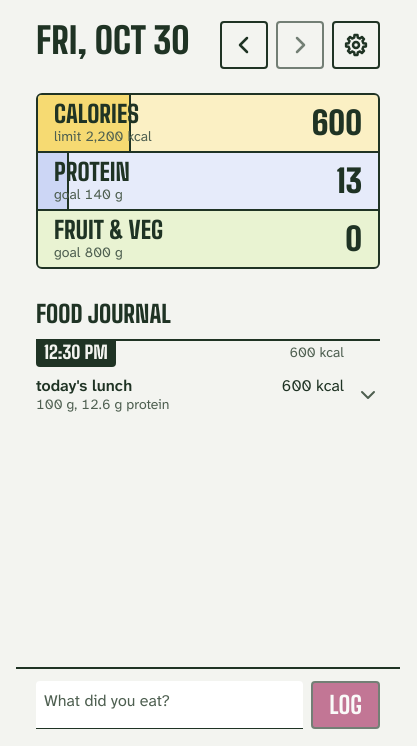
Test case: a past day under the midnight and resume rules › is not moved by midnight, and Next day then reaches the day that is now past
This screenshot has width=417, height=746.
Click the button named "Previous day" at point(244, 45), box left=220, top=21, right=268, bottom=69
Wait 31000 ms
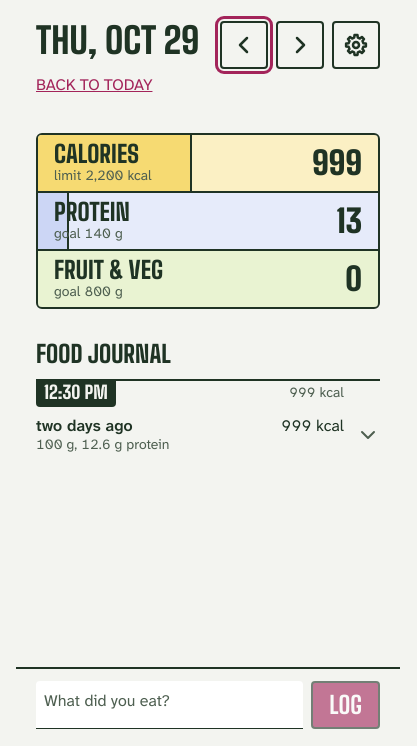
Now the text "Thu, Oct 29" is shown, box left=36, top=19, right=199, bottom=62
Click the button named "Next day" at point(300, 45), box left=276, top=21, right=324, bottom=69
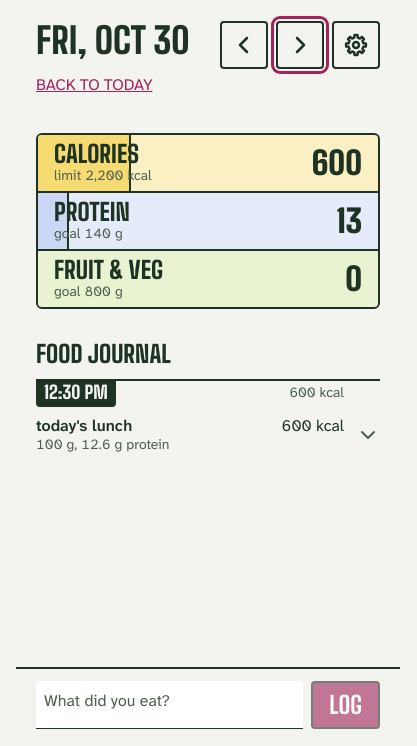
Now the text "Fri, Oct 30" is shown, box left=36, top=19, right=190, bottom=62
Click the button named "Next day" at point(300, 45), box left=276, top=21, right=324, bottom=69
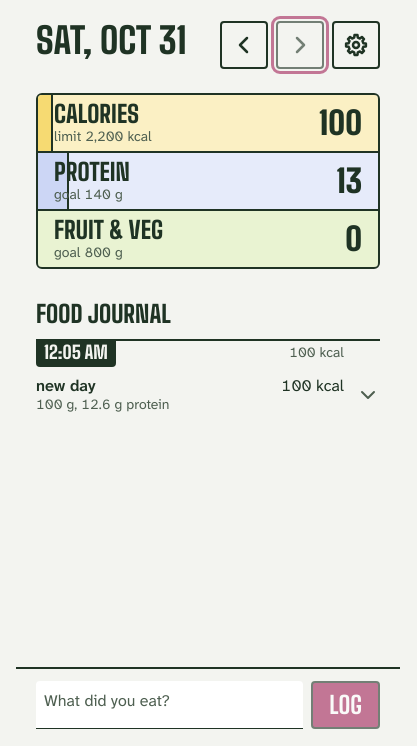
Now the text "Sat, Oct 31" is shown, box left=36, top=19, right=187, bottom=62
